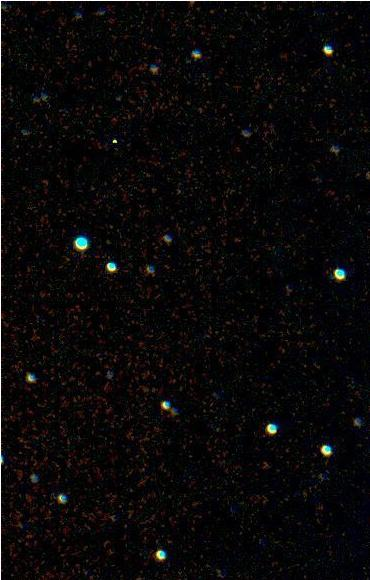star: (97, 125, 127, 155)
